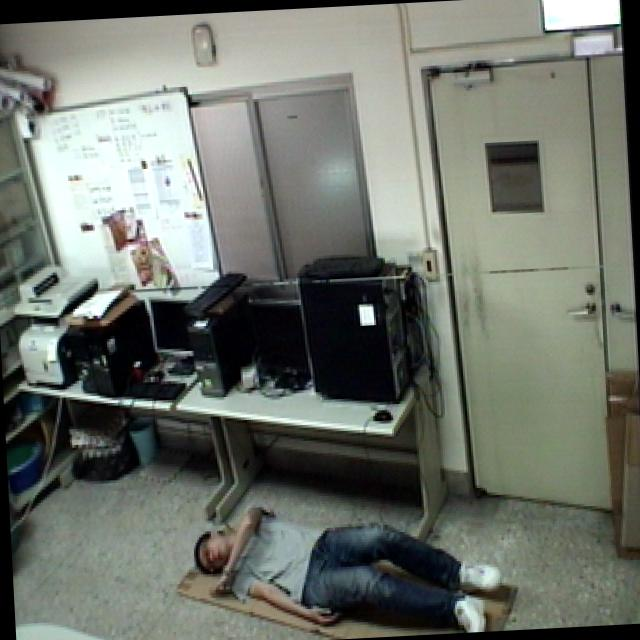lie: (188, 478, 514, 640)
